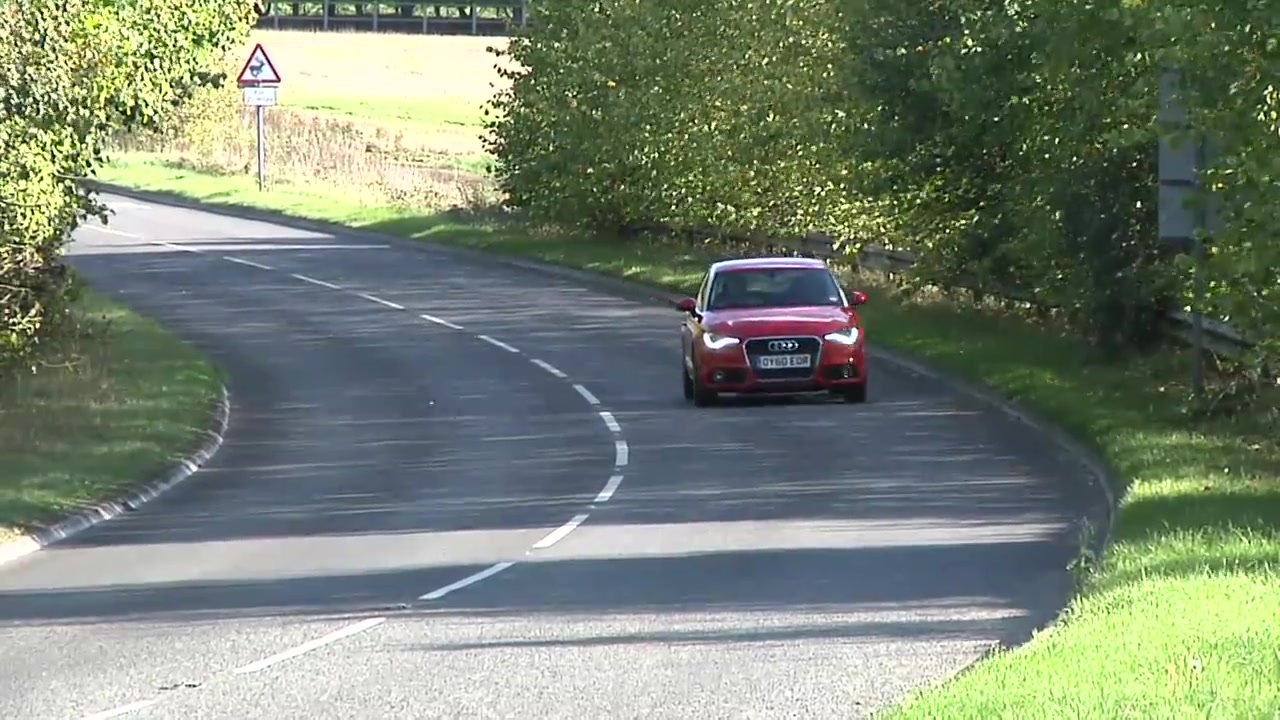car: (677, 259, 877, 406)
